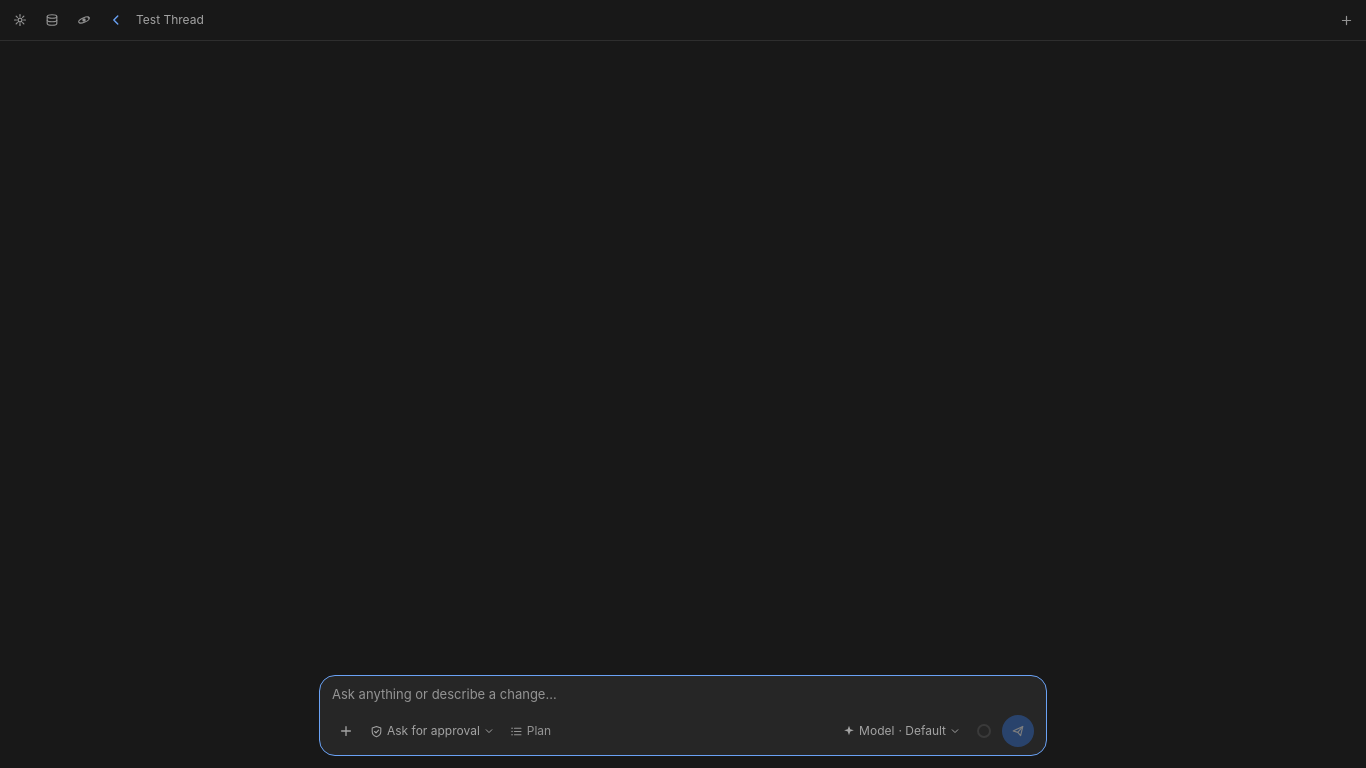
Scenario: ThreadView — settings drawer › toggles the drawer from the header and opens the settings popup for a section
Open via the header ☰.
Click the button named "settings menu".
click(20, 20)  # box left=8, top=8, right=32, bottom=32
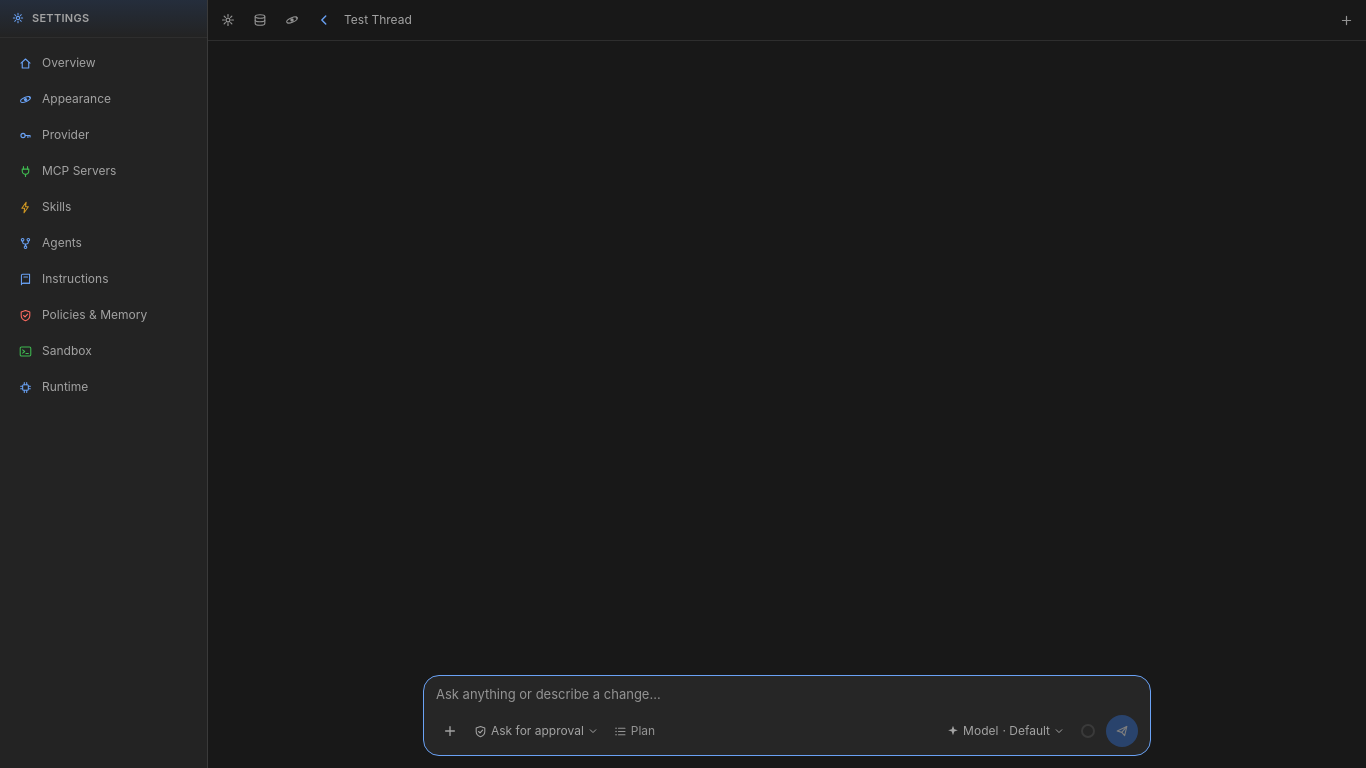
Expected: the navigation bar named "Settings sections" is shown, left=8, top=46, right=199, bottom=404
Click the button "Runtime".
click(104, 386)  # box left=8, top=370, right=199, bottom=404
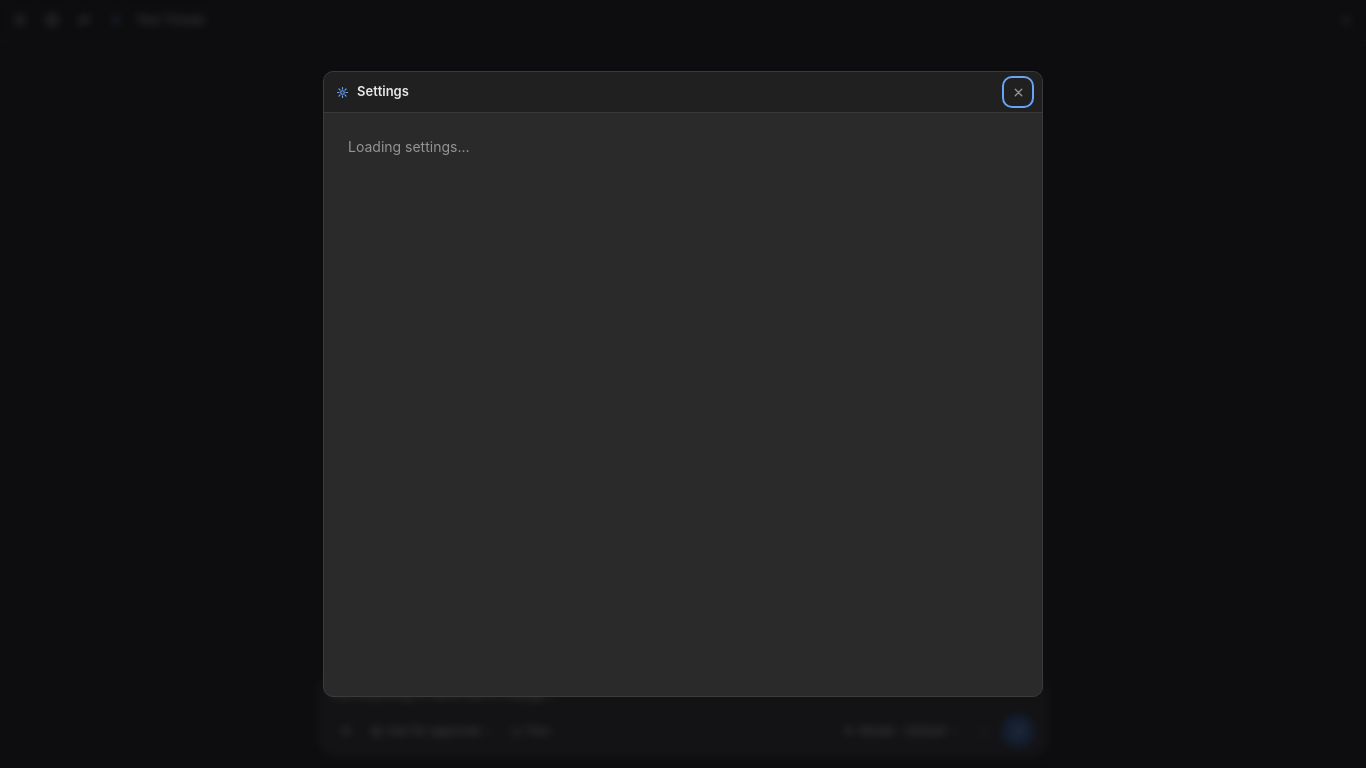
Expected: the dialog "Settings Loading settings…" is shown, left=323, top=71, right=1043, bottom=697
Expected: the text "Loading settings…" is shown, left=348, top=138, right=470, bottom=155
